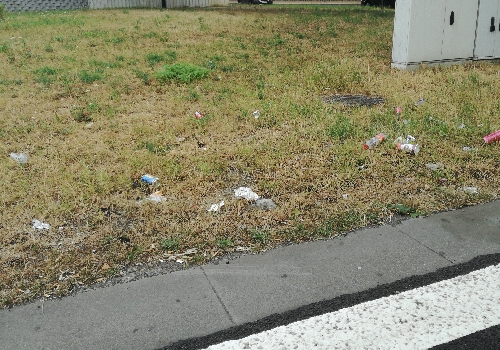trash: (358, 93, 500, 169), (208, 177, 264, 216), (137, 167, 170, 208), (26, 210, 51, 238), (7, 142, 31, 170), (186, 106, 205, 121), (251, 101, 263, 121)
